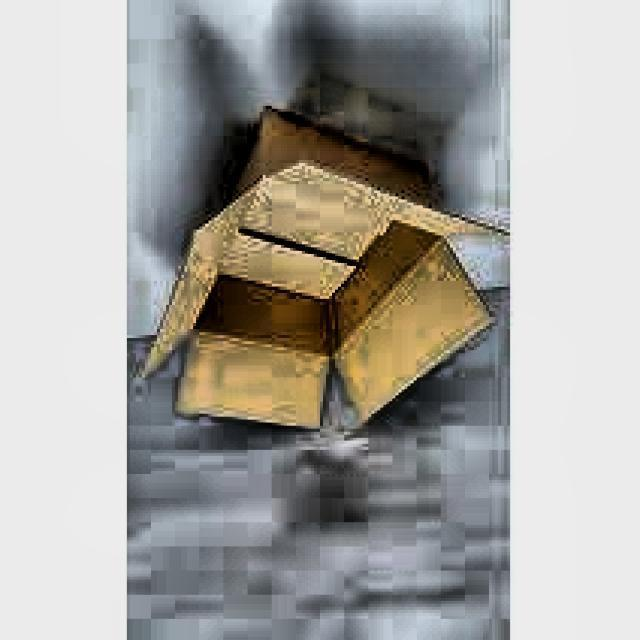cardboard: (136, 106, 510, 434)
